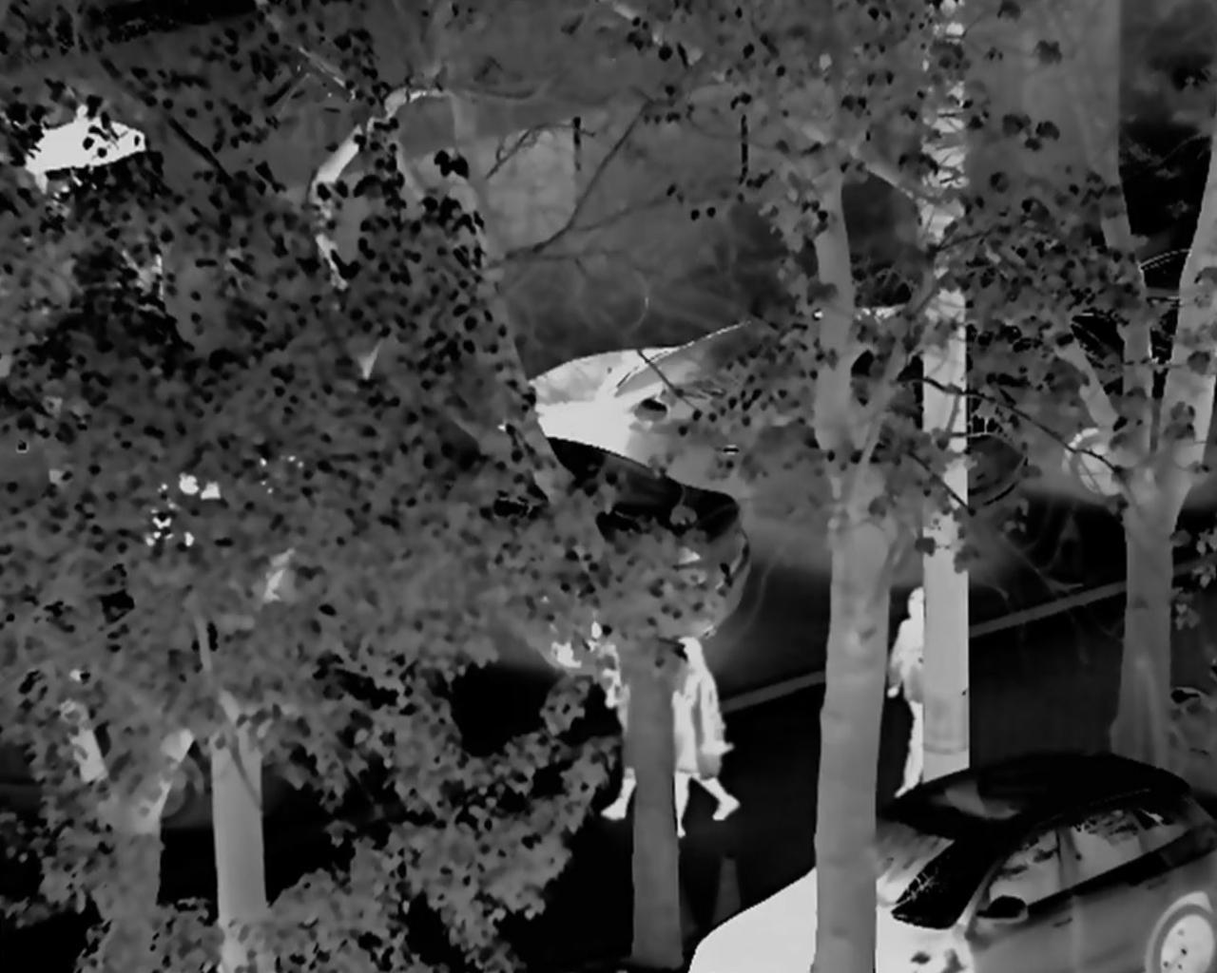person: (658, 633, 739, 837), (881, 582, 939, 802), (597, 632, 654, 831)
